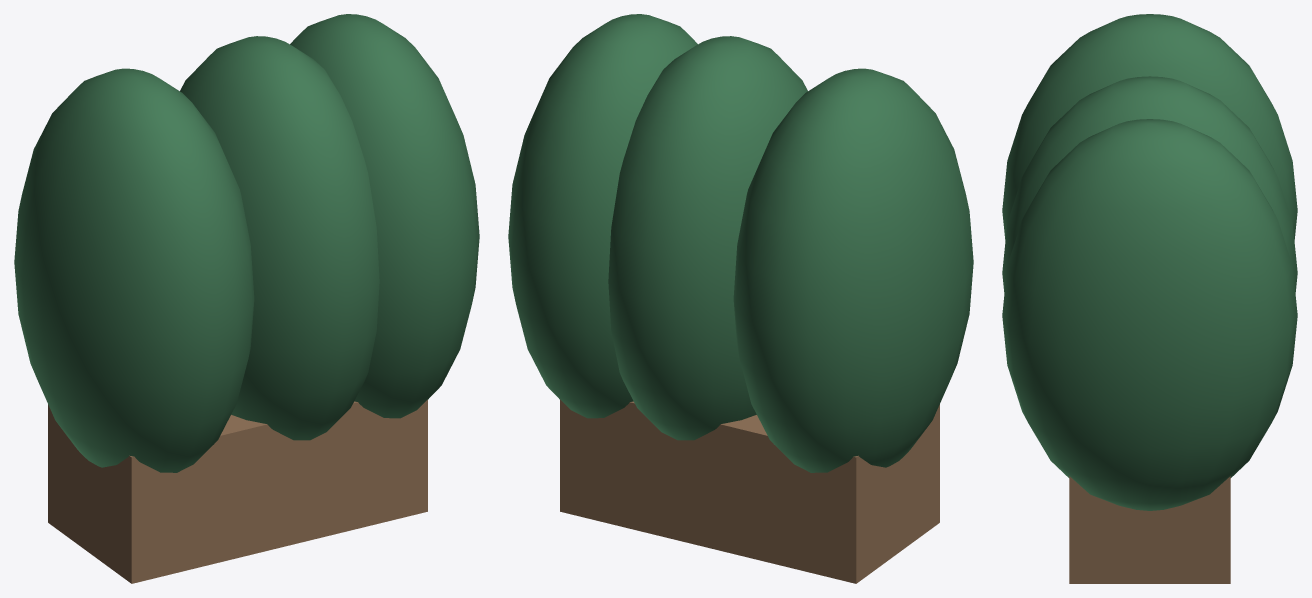
File: hedge.short-old.glb
3 views of the same model, side by side, from view 1: azimuth 30°, elevation 25°; view 2: azimuth 150°, elevation 25°; view 3: azimuth 270°, elevation 25° (orthographic). The views are drawn at different scales.
Parts seen in each view (by area): view 1: hedge base; view 2: hedge base; view 3: hedge base.
Boxes of the visible parts, x1,y1,x2,y2 form: hedge base: [14, 14, 479, 583]; hedge base: [508, 14, 973, 583]; hedge base: [1002, 14, 1297, 583].
Size of the model in its own units: 0.68 by 0.735 by 0.44.
